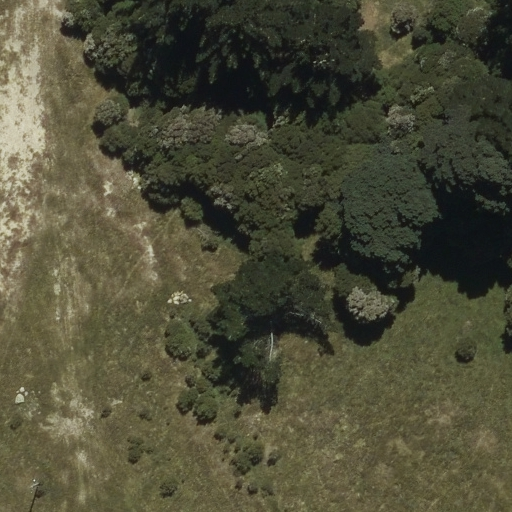DT: (27, 474, 45, 495)
